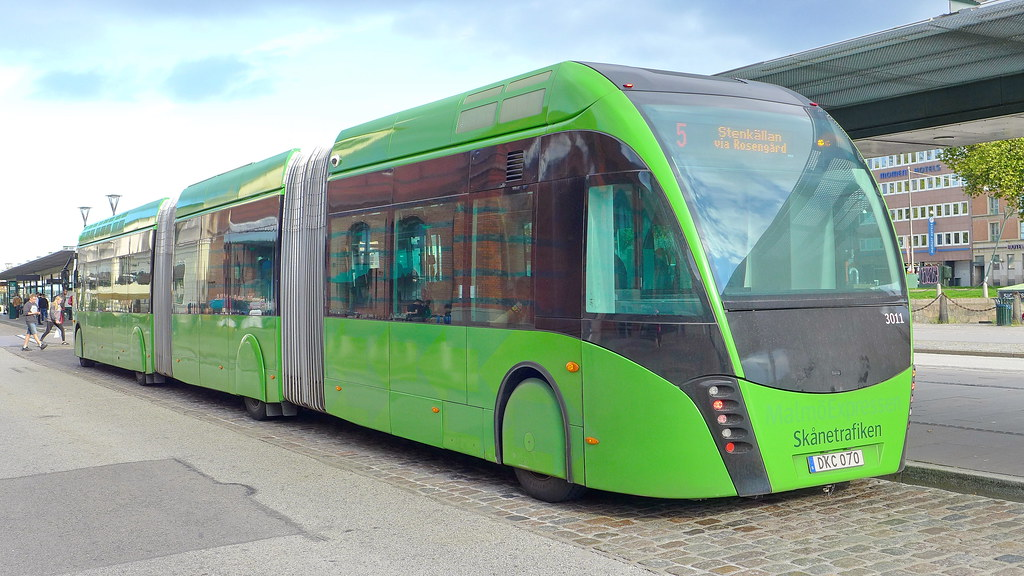bus: (75, 58, 917, 509)
